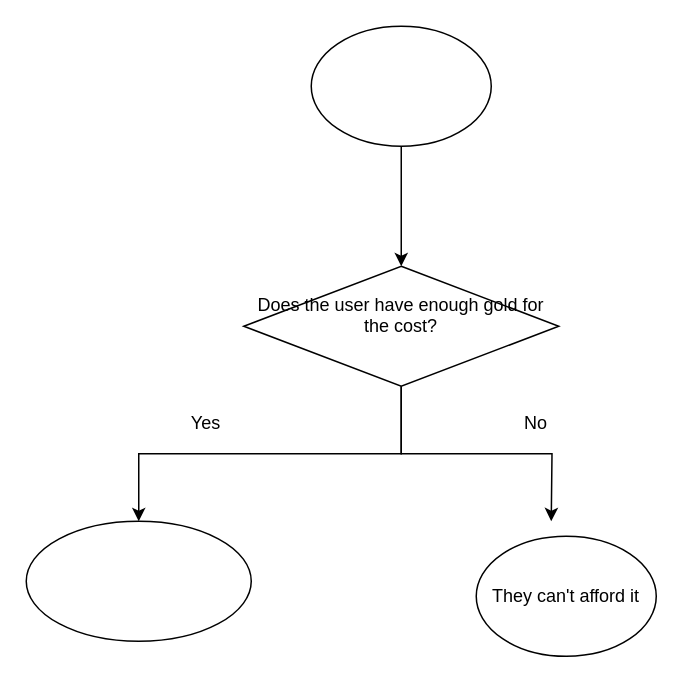
Image size: 683x683. Some labels were removed from this diagram. The shapes that lost their labels are listed below. From the top down, each one's box as (x1, y1, x2, y2) in pixels, then its label:
(310, 25, 491, 146): Start
(25, 520, 251, 641): They can afford it
